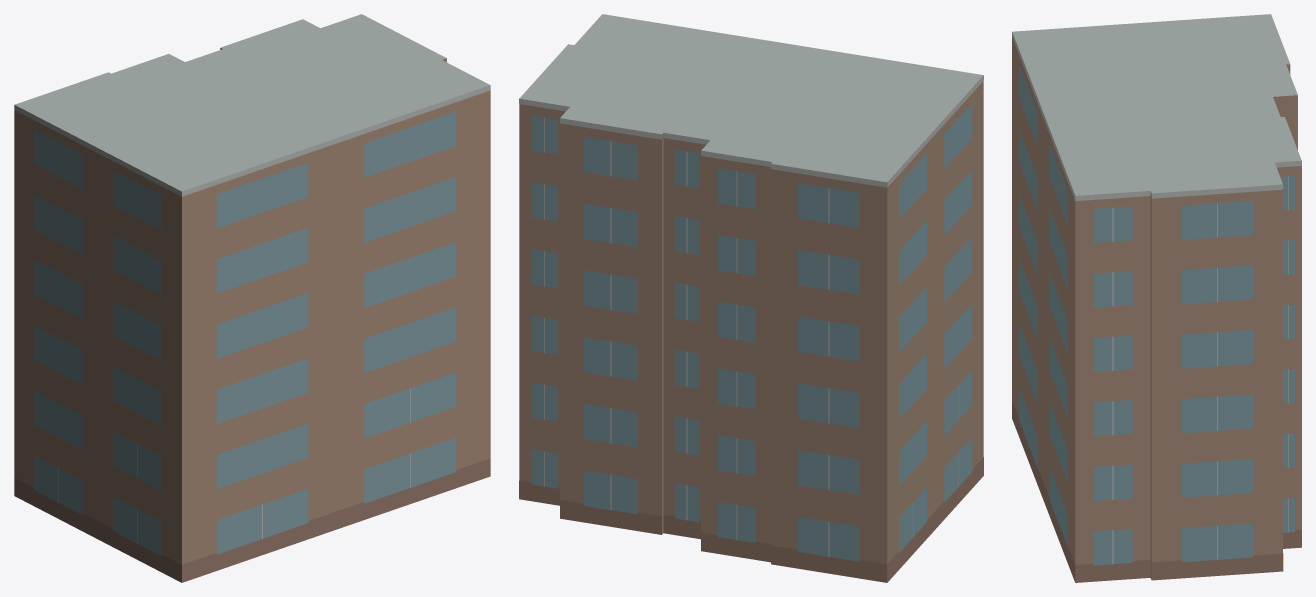
File: survey-upis-32635166.glb
3 views of the same model, side by side, from view 1: azimuth 30°, elevation 25°; view 2: azimuth 150°, elevation 25°; view 3: azimuth 270°, elevation 25° (orthographic). The views are drawn at different scales.
Parts seen in each view (by area): view 1: survey-upis-32635166.tmp; view 2: survey-upis-32635166.tmp; view 3: survey-upis-32635166.tmp.
Boxes of the visible parts, x1,y1,x2,y2 form: survey-upis-32635166.tmp: [14, 14, 490, 582]; survey-upis-32635166.tmp: [519, 14, 983, 582]; survey-upis-32635166.tmp: [1012, 14, 1301, 582].
Bounding box in the file's own units: 18.47 × 18.3 × 12.43.
